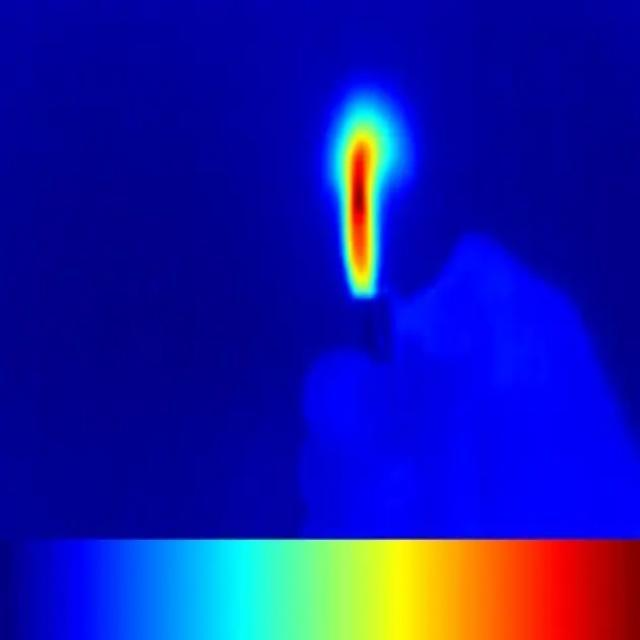fire: (343, 119, 384, 301)
